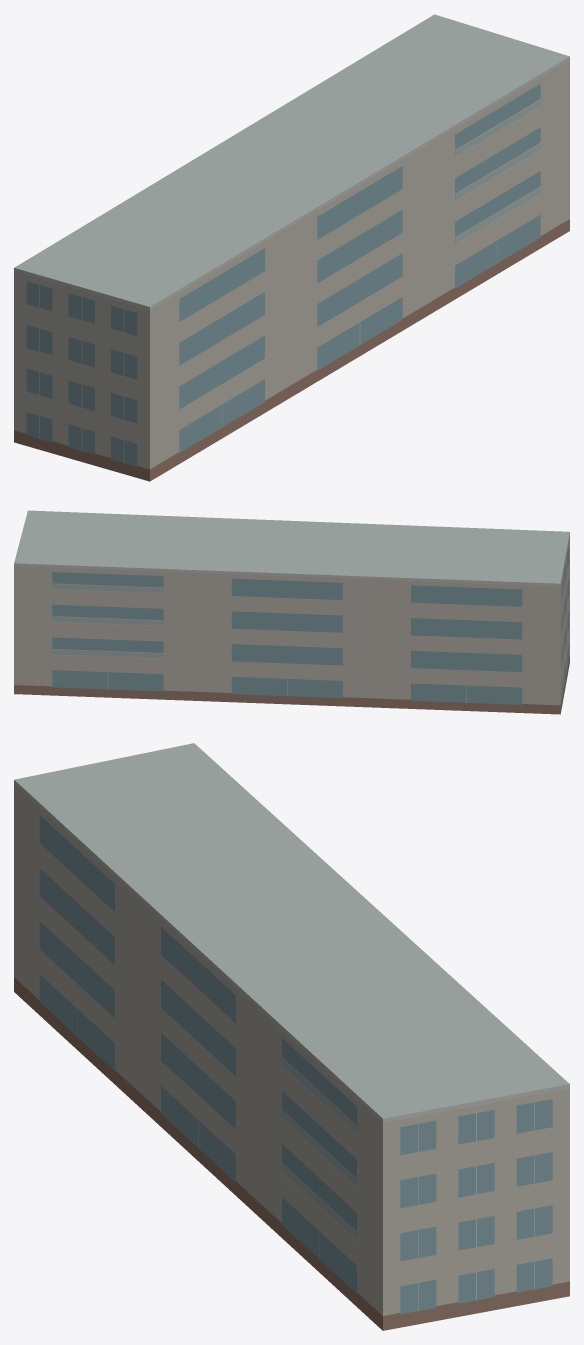
Rendered from survey-upis-32725183.glb.
3 renders of one model, top to bottom at view 1: azimuth 30°, elevation 25°; view 2: azimuth 150°, elevation 25°; view 3: azimuth 270°, elevation 25°, orthographic. The views are drawn at different scales.
Parts seen in each view (by area): view 1: survey-upis-32725183.tmp; view 2: survey-upis-32725183.tmp; view 3: survey-upis-32725183.tmp.
Boxes of the visible parts, bbox=[...] form: survey-upis-32725183.tmp: bbox=[14, 14, 569, 481]; survey-upis-32725183.tmp: bbox=[14, 510, 569, 714]; survey-upis-32725183.tmp: bbox=[14, 743, 569, 1330].
Bounding box in the file's own units: 46.33 × 12.2 × 28.98.
